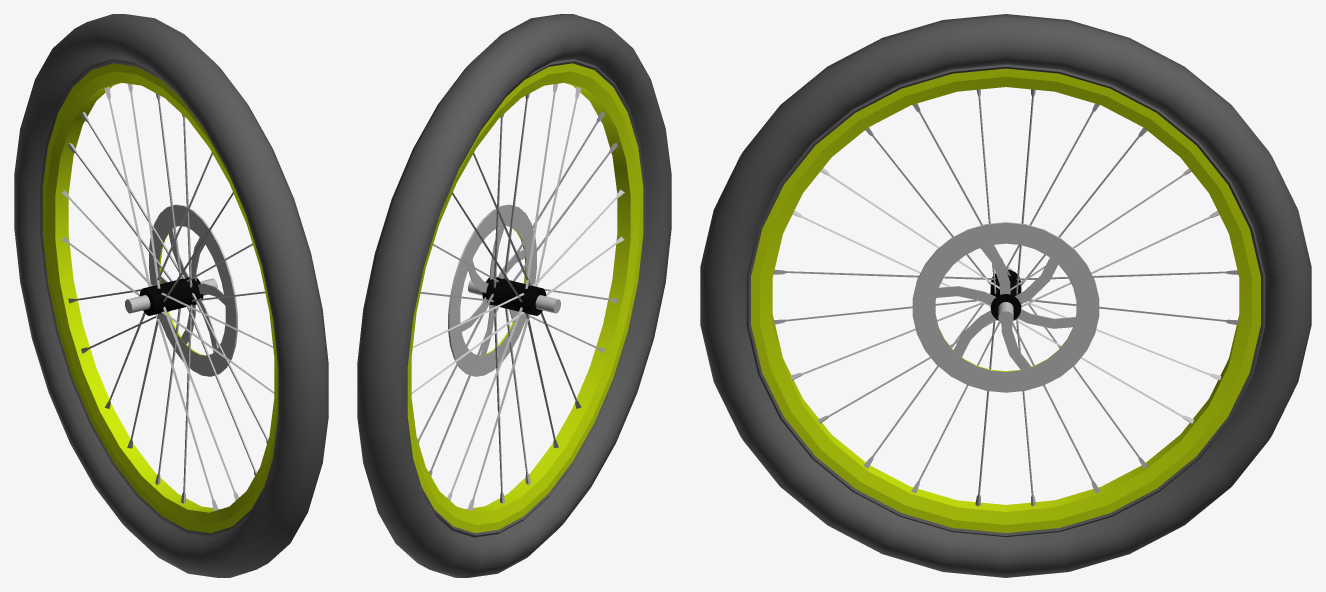
The model's file is bicycle_wheel_front 2.fbx.
3 renders of one model, left to right at view 1: azimuth 30°, elevation 25°; view 2: azimuth 150°, elevation 25°; view 3: azimuth 270°, elevation 25°, orthographic. The views are drawn at different scales.
Parts seen in each view (by area): view 1: front_wheel; view 2: front_wheel; view 3: front_wheel.
Boxes of the visible parts, x1,y1,x2,y2 form: front_wheel: (14,14,328,577); front_wheel: (357,14,671,577); front_wheel: (700,14,1311,577).
Size of the model in its own units: 11.17 by 65.09 by 64.73.
